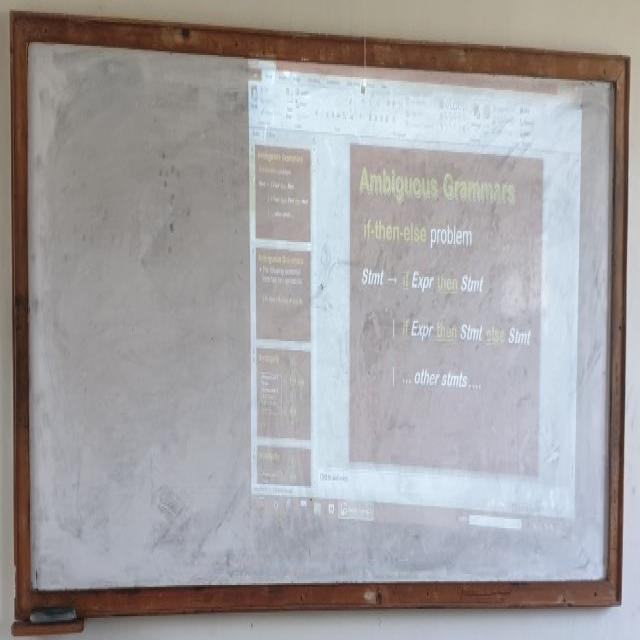Slide: (246, 42, 585, 543)
White-board: (22, 32, 624, 614)
